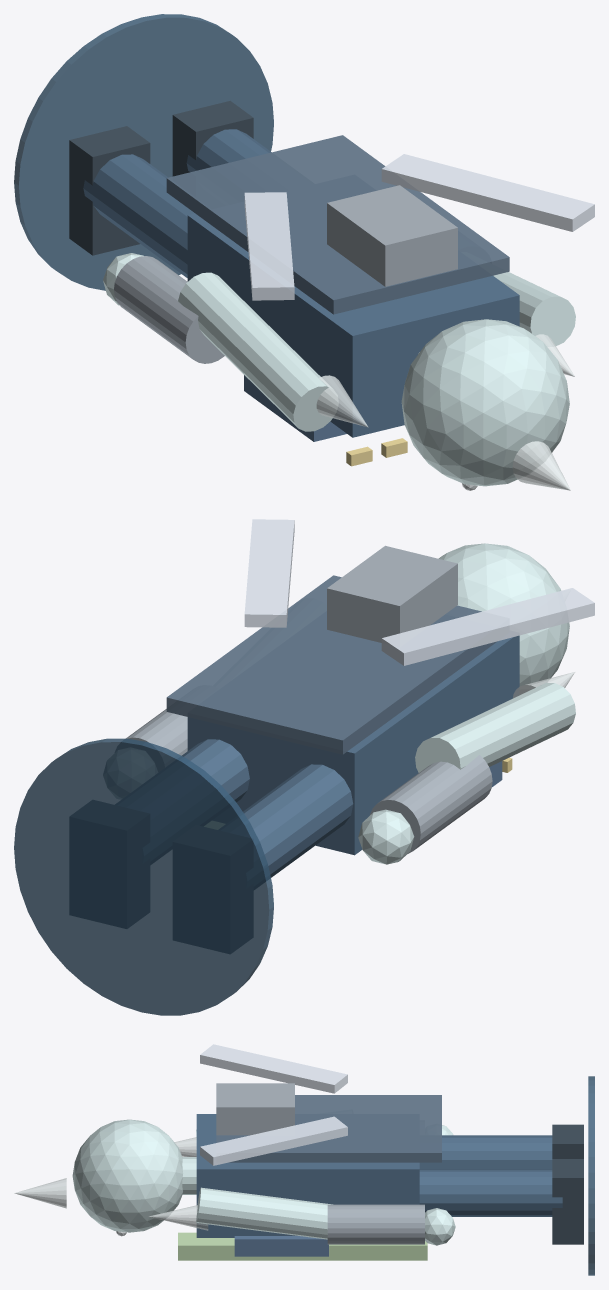
The model's file is SW_NPC_028_crix_thunderpin.glb.
3 views of the same model, one above another, from view 1: azimuth 30°, elevation 25°; view 2: azimuth 150°, elevation 25°; view 3: azimuth 270°, elevation 25° (orthographic). The views are drawn at different scales.
Parts seen in each view (by area): view 1: round_base_plate, torso_uniform, head, storm_cloak, left_upper_arm, wingpack_core, left_leg, right_wing_rig, left_forearm_gauntlet, left_boot, left_wing_rig, right_boot (+6 smaller); view 2: round_base_plate, storm_cloak, torso_uniform, wingpack_core, head, left_upper_arm, left_leg, left_wing_rig, left_forearm_gauntlet, right_wing_rig, left_hand, right_leg (+1 smaller); view 3: head, torso_uniform, storm_cloak, right_leg, right_upper_arm, left_leg, right_forearm_gauntlet, wingpack_core, rank_sash, right_wing_rig, left_wing_rig, right_boot (+8 smaller).
Part boxes in pixels (x1,y1,x2,y2): round_base_plate: (14, 14, 273, 290); torso_uniform: (187, 213, 519, 437); head: (401, 319, 569, 486); storm_cloak: (166, 135, 509, 314); left_upper_arm: (178, 272, 338, 431); wingpack_core: (327, 185, 457, 286); left_leg: (83, 154, 194, 277); right_wing_rig: (381, 154, 594, 231); left_forearm_gauntlet: (114, 256, 224, 363); left_boot: (69, 126, 150, 255); left_wing_rig: (244, 192, 294, 300); right_boot: (172, 100, 253, 176); round_base_plate: (14, 738, 273, 1015); storm_cloak: (166, 575, 497, 754); torso_uniform: (187, 635, 519, 855); wingpack_core: (327, 545, 457, 642); head: (438, 543, 569, 694); left_upper_arm: (415, 682, 575, 772); left_leg: (243, 764, 353, 877); left_wing_rig: (381, 588, 594, 665); left_forearm_gauntlet: (370, 755, 492, 853); right_wing_rig: (244, 519, 294, 627); left_hand: (358, 809, 414, 864); right_leg: (182, 739, 249, 802); head: (72, 1119, 183, 1232); torso_uniform: (196, 1114, 419, 1237); storm_cloak: (216, 1095, 441, 1162); right_leg: (419, 1169, 562, 1216); right_upper_arm: (196, 1187, 332, 1239); left_leg: (419, 1135, 552, 1169); right_forearm_gauntlet: (327, 1204, 424, 1244); wingpack_core: (216, 1083, 294, 1135); rank_sash: (178, 1232, 427, 1260); right_wing_rig: (200, 1116, 347, 1165); left_wing_rig: (200, 1044, 347, 1093); right_boot: (552, 1159, 583, 1244).
Bounding box in the file's own units: 1.06 × 0.7896 × 2.3.
